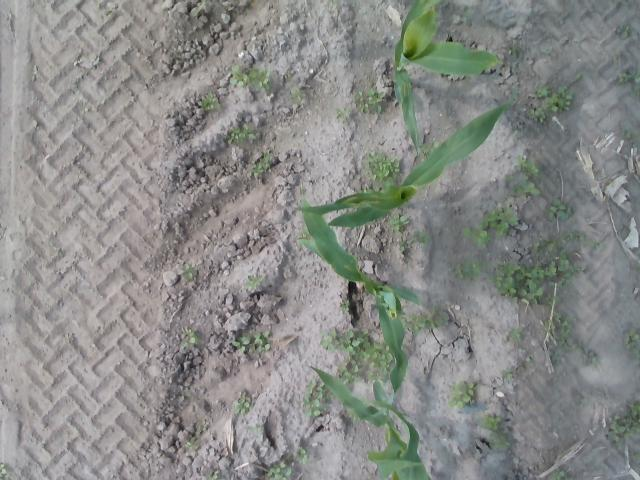Maize: (290, 81, 517, 227), (299, 198, 422, 419), (392, 0, 507, 158), (307, 364, 433, 480)
Weeds: (488, 249, 582, 305), (318, 326, 392, 382), (525, 70, 584, 126), (462, 203, 518, 245), (604, 399, 640, 446), (405, 306, 453, 335), (362, 150, 401, 184), (228, 64, 274, 92), (544, 311, 576, 349), (230, 329, 274, 354), (302, 378, 328, 418), (356, 88, 387, 118), (448, 378, 475, 408), (448, 258, 484, 280), (227, 125, 257, 150), (512, 153, 542, 177), (503, 182, 543, 198), (624, 328, 640, 364), (532, 236, 558, 257), (548, 197, 572, 219), (268, 459, 292, 480), (177, 262, 200, 282), (200, 92, 222, 112), (232, 392, 252, 414), (252, 153, 268, 180), (616, 66, 640, 84), (582, 346, 600, 368), (180, 328, 198, 350), (388, 214, 411, 231), (288, 84, 305, 106), (621, 123, 640, 142), (244, 275, 268, 290), (480, 412, 500, 430), (562, 229, 587, 243), (614, 24, 632, 42), (458, 4, 474, 24), (510, 328, 529, 344), (413, 230, 431, 246), (398, 238, 414, 256), (294, 448, 312, 464), (244, 424, 268, 436), (489, 436, 508, 450), (195, 420, 211, 436), (338, 296, 350, 316), (586, 239, 606, 251), (422, 140, 438, 154), (335, 108, 351, 121), (106, 1, 118, 18), (549, 469, 567, 480), (179, 388, 193, 402), (184, 433, 197, 448), (195, 1, 208, 16), (298, 224, 308, 241), (542, 46, 556, 58), (31, 66, 40, 84), (630, 84, 640, 100), (502, 366, 514, 379), (551, 350, 562, 364), (203, 470, 217, 480), (62, 332, 76, 342), (610, 52, 622, 63), (510, 46, 522, 57), (346, 408, 356, 421), (0, 464, 8, 480), (503, 172, 513, 184), (577, 394, 588, 404), (515, 362, 524, 373), (81, 102, 89, 114), (632, 452, 640, 464), (328, 0, 338, 7), (71, 84, 79, 92), (284, 74, 292, 80), (593, 168, 601, 174), (525, 357, 531, 362)
